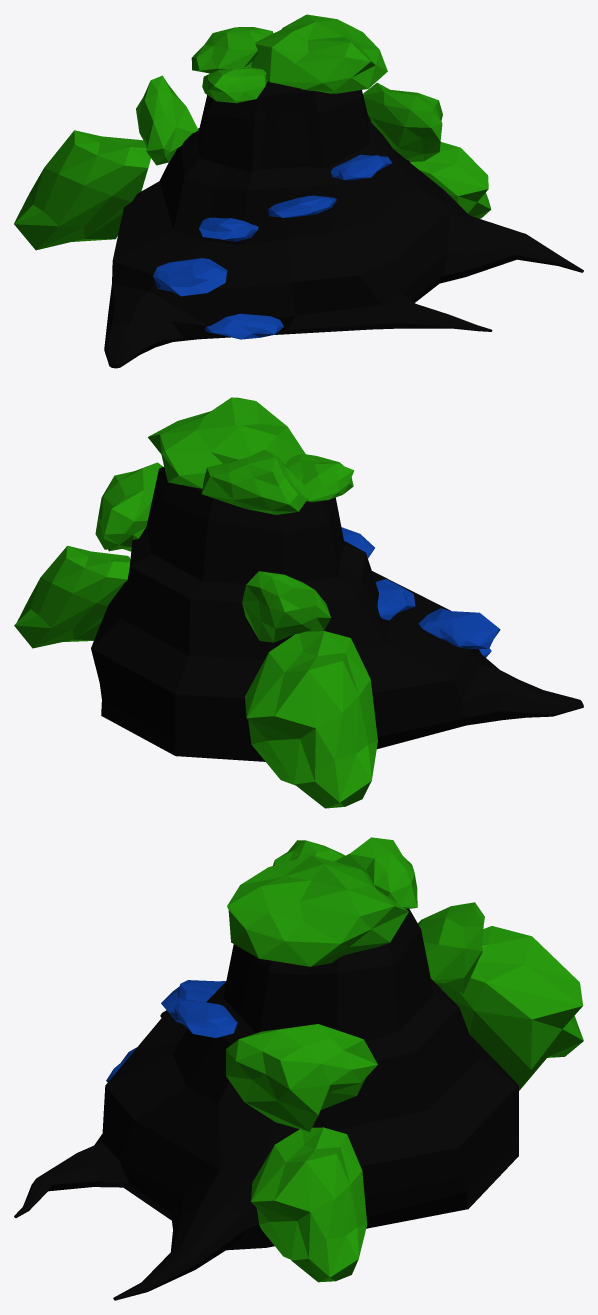
File: StairTree_EM.fbx
The picture shows the model from 3 angles, top to bottom: view 1: azimuth 30°, elevation 25°; view 2: azimuth 150°, elevation 25°; view 3: azimuth 270°, elevation 25°; orthographic projection. The views are drawn at different scales.
Visible parts, largest first — view 1: StairTree_EM; view 2: StairTree_EM; view 3: StairTree_EM.
Part boxes in pixels (bbox=[...]): StairTree_EM: bbox=[14, 14, 583, 368]; StairTree_EM: bbox=[14, 397, 583, 808]; StairTree_EM: bbox=[14, 837, 583, 1300].
Size of the model in its own units: 819 by 413 by 685.
